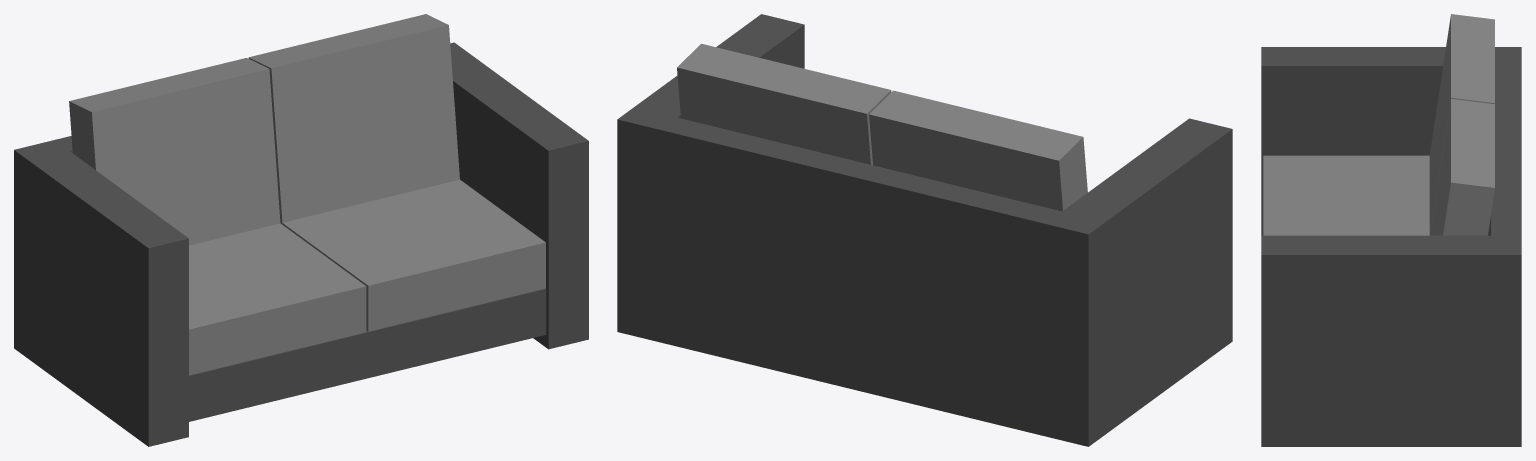
File: SM_Props_Furniture_05.fbx
The picture shows the model from 3 angles, left to right: view 1: azimuth 30°, elevation 25°; view 2: azimuth 150°, elevation 25°; view 3: azimuth 270°, elevation 25°; orthographic projection. The views are drawn at different scales.
Visible parts, largest first — view 1: SM_Props_Furniture_05; view 2: SM_Props_Furniture_05; view 3: SM_Props_Furniture_05.
Boxes of the visible parts, <box> form: SM_Props_Furniture_05: <box>14,14,588,446</box>; SM_Props_Furniture_05: <box>617,14,1232,446</box>; SM_Props_Furniture_05: <box>1261,14,1521,446</box>.
Size of the model in its own units: 1.97 by 1.08 by 1.04.
